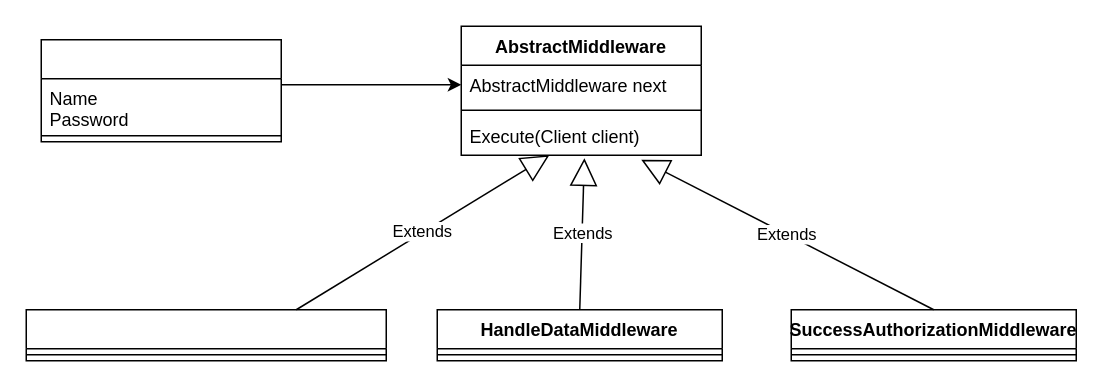
The diagram is 1104 pixels wide and 387 high, and some of its shapes have lost their labels. Here are the shapes that lost their labels. From the top down, the box of each, then its label:
(40, 38, 281, 142): Client
(25, 308, 386, 361): SearchClientDatabaseMiddleware
